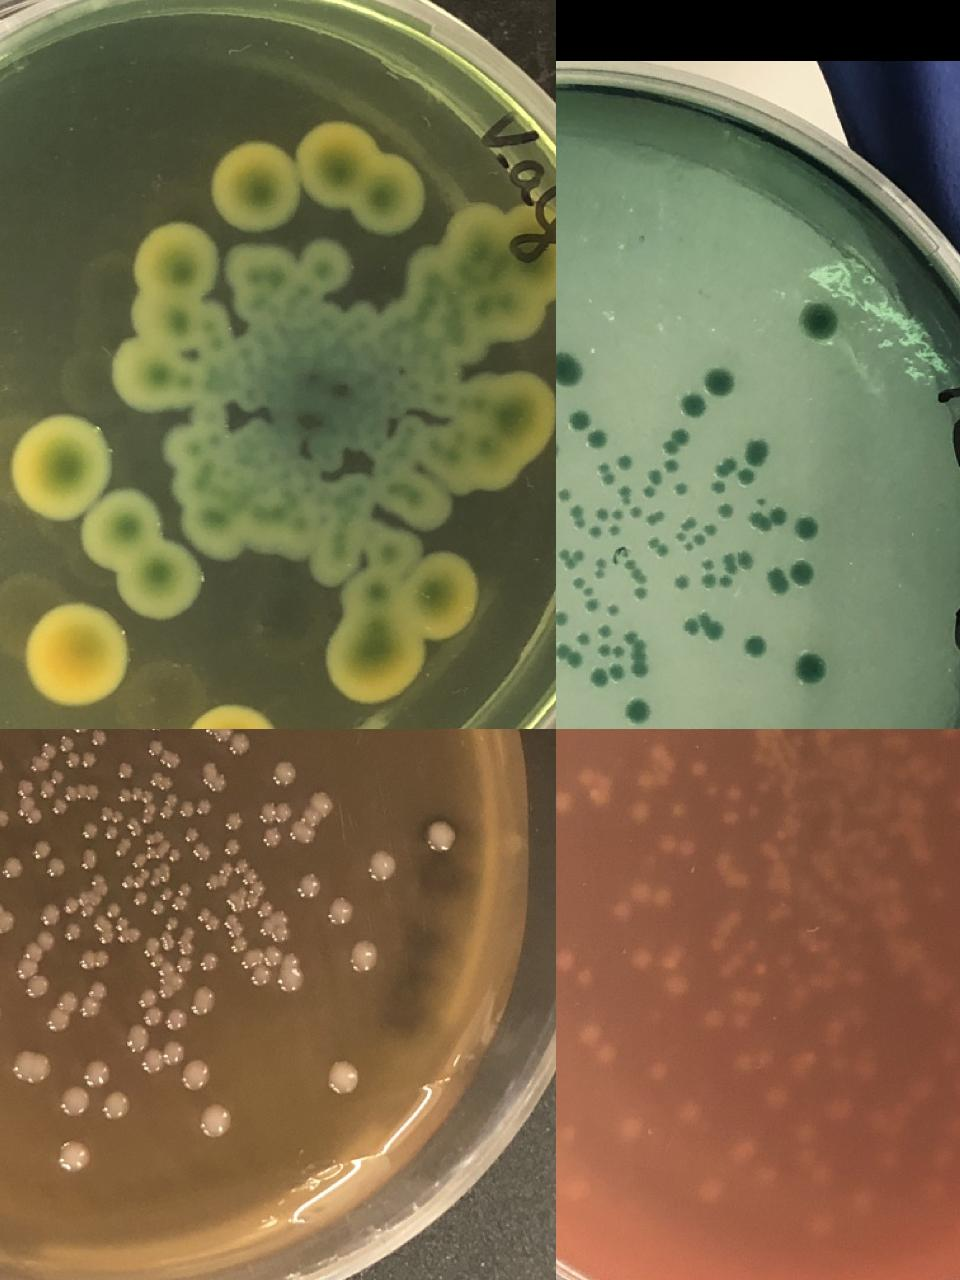pddamselae: (124, 988, 188, 1050), (43, 979, 111, 1035), (240, 945, 301, 991), (17, 932, 57, 999), (139, 1040, 189, 1076), (219, 858, 265, 896), (768, 561, 815, 596), (117, 786, 156, 826), (675, 522, 717, 554), (30, 729, 109, 746), (793, 650, 829, 686), (31, 840, 66, 878), (701, 363, 736, 399), (801, 301, 837, 337), (10, 1050, 48, 1083), (719, 553, 754, 589), (622, 630, 648, 677), (202, 729, 248, 754), (683, 613, 722, 642), (622, 557, 648, 601), (572, 577, 599, 613), (61, 1085, 92, 1117), (181, 1060, 212, 1092), (57, 1141, 89, 1171), (349, 941, 379, 973), (328, 1060, 357, 1092), (424, 820, 453, 852), (748, 508, 786, 532), (104, 1090, 133, 1120), (200, 1105, 229, 1135), (326, 897, 355, 927), (366, 850, 395, 880), (556, 351, 580, 387), (292, 872, 322, 901), (662, 428, 688, 456), (190, 986, 217, 1012), (289, 818, 317, 845), (62, 783, 100, 801), (625, 699, 651, 726), (679, 392, 705, 418), (741, 634, 767, 660), (793, 515, 819, 541), (84, 1060, 110, 1086), (270, 760, 296, 786), (308, 791, 334, 817), (744, 438, 770, 464), (641, 470, 664, 499), (66, 750, 99, 769), (559, 547, 586, 570), (556, 643, 581, 666), (257, 804, 290, 821), (170, 882, 190, 910), (79, 950, 108, 969), (701, 558, 718, 589), (0, 902, 17, 932), (149, 771, 173, 791), (176, 928, 194, 956), (714, 457, 736, 478), (596, 463, 616, 486), (597, 643, 624, 660), (99, 807, 126, 824), (158, 793, 177, 817), (568, 504, 586, 529), (647, 537, 669, 557), (0, 856, 21, 876), (40, 904, 62, 924), (76, 851, 98, 870), (735, 466, 754, 486), (593, 557, 607, 582), (203, 914, 221, 932), (208, 772, 226, 790), (224, 812, 242, 830), (644, 510, 665, 526), (161, 751, 179, 768), (200, 952, 218, 970), (262, 829, 280, 847), (591, 670, 607, 686), (715, 503, 731, 519), (673, 575, 690, 591), (608, 665, 623, 681), (616, 455, 631, 471), (556, 487, 571, 502), (572, 412, 587, 427), (664, 459, 679, 474), (590, 431, 604, 447), (587, 526, 601, 540), (597, 624, 611, 638), (606, 524, 620, 538), (27, 809, 41, 823), (41, 744, 55, 758), (99, 930, 113, 944), (117, 763, 131, 777), (147, 740, 161, 754), (149, 953, 163, 968), (161, 938, 175, 952), (165, 916, 179, 930), (195, 845, 209, 859), (226, 840, 240, 854), (556, 610, 568, 626), (606, 606, 620, 619), (617, 486, 631, 499), (628, 505, 642, 518), (674, 483, 688, 496), (40, 782, 54, 795), (50, 768, 64, 782), (51, 800, 66, 813), (65, 898, 79, 911), (66, 924, 80, 937), (80, 903, 94, 916), (81, 823, 95, 837), (106, 825, 120, 839), (175, 958, 190, 972), (179, 802, 194, 815), (198, 800, 212, 813), (257, 901, 271, 914), (710, 482, 723, 495), (59, 737, 73, 750), (107, 904, 120, 917), (168, 850, 182, 863), (185, 828, 198, 842), (576, 633, 590, 645), (593, 509, 607, 521), (610, 508, 624, 520), (684, 516, 696, 530), (0, 805, 8, 826)
pdpiscicida: (709, 911, 741, 951), (588, 775, 612, 805), (718, 856, 741, 887), (649, 744, 676, 770), (731, 987, 763, 1008), (636, 771, 668, 788), (578, 769, 595, 785), (582, 1025, 599, 1041), (612, 904, 629, 920), (622, 1121, 639, 1137), (658, 835, 676, 851), (669, 977, 686, 993), (679, 839, 696, 855), (722, 807, 739, 823), (751, 959, 768, 976), (754, 1049, 771, 1065), (797, 1148, 814, 1164), (810, 1168, 827, 1184), (705, 1010, 721, 1026), (578, 972, 595, 987), (669, 801, 686, 816), (692, 760, 709, 775), (769, 1091, 787, 1106), (597, 1047, 612, 1063), (632, 886, 647, 902), (652, 889, 668, 905), (682, 1102, 697, 1118), (705, 784, 720, 800), (728, 784, 743, 800), (731, 1011, 746, 1027), (734, 1055, 749, 1071), (800, 1125, 815, 1141), (557, 952, 572, 968), (632, 805, 647, 820), (634, 950, 649, 966), (649, 1067, 665, 1082), (663, 952, 678, 968), (745, 804, 760, 819), (556, 796, 568, 812), (952, 795, 960, 811), (941, 729, 958, 736)
valgino: (9, 416, 202, 620), (211, 121, 429, 234), (111, 223, 220, 409), (21, 600, 131, 708), (405, 554, 477, 640), (174, 702, 284, 729), (296, 239, 348, 293)
